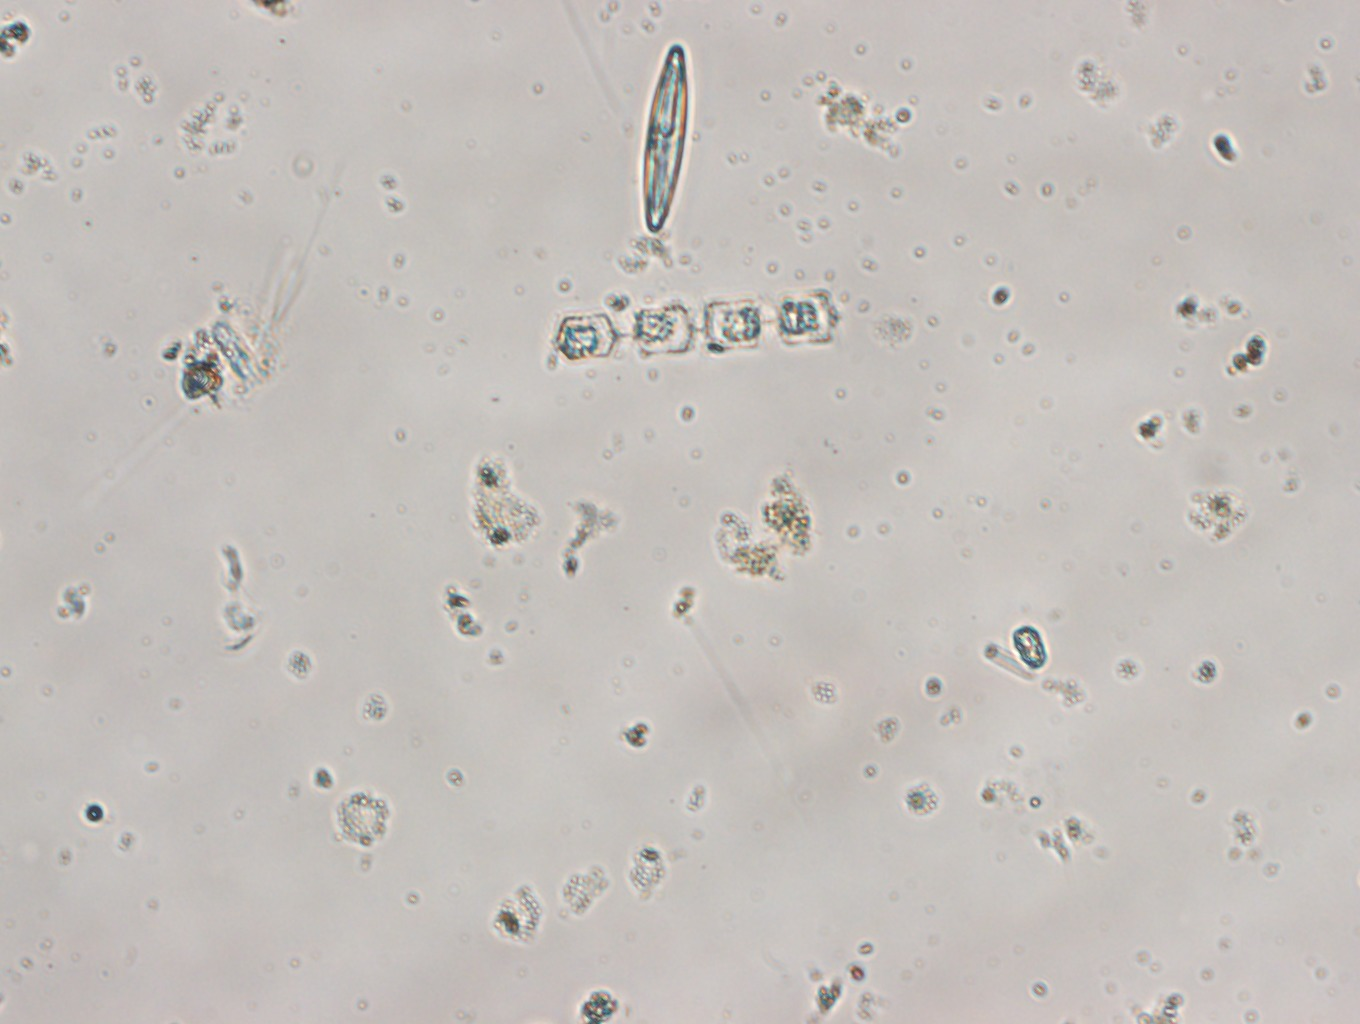chaetoceros: (553, 285, 838, 366)
navicula: (638, 40, 691, 234)
